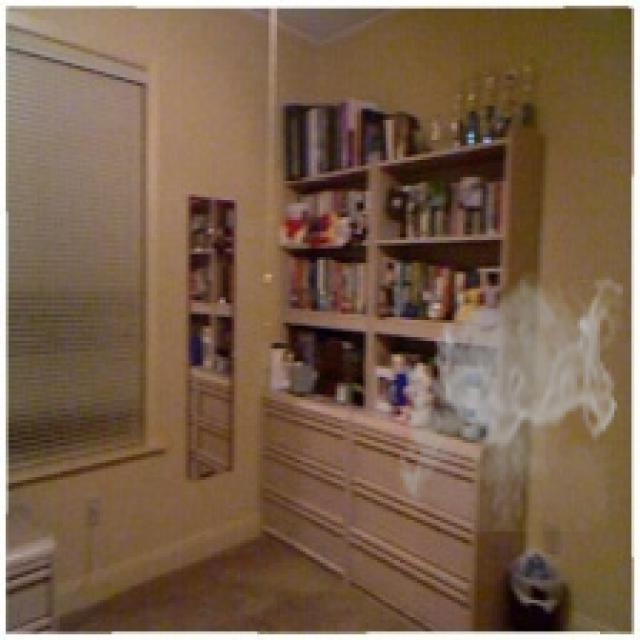smoke: (391, 268, 623, 532)
